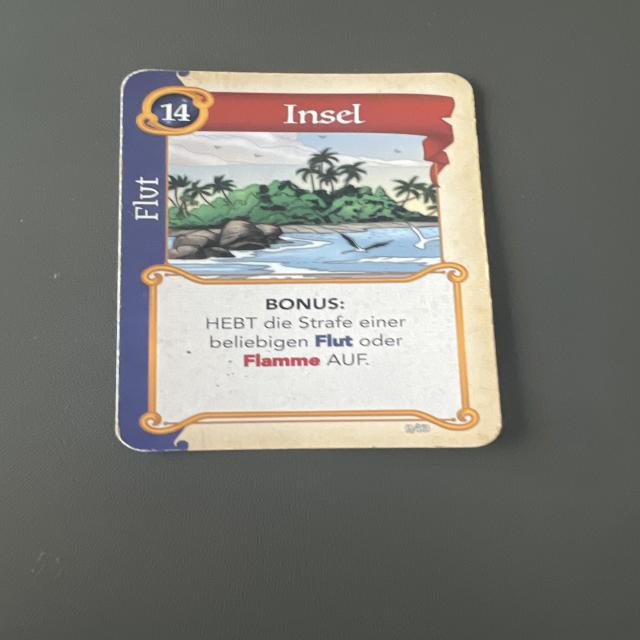Island: (121, 72, 506, 450)
